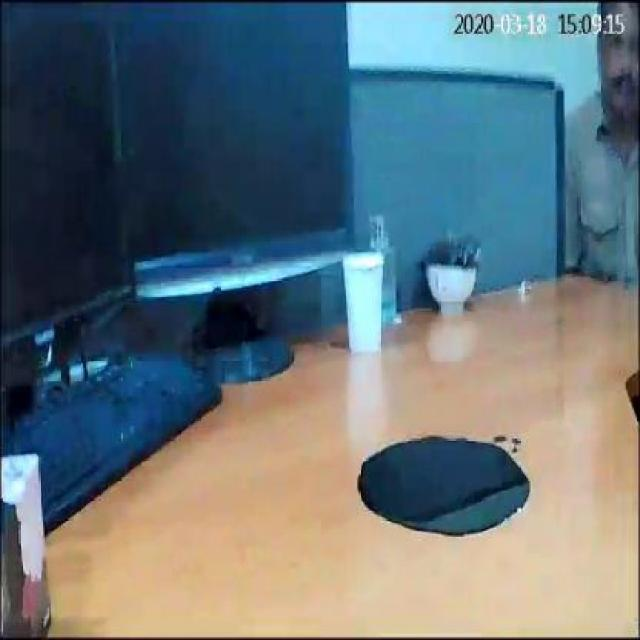spill: (353, 436, 533, 535)
